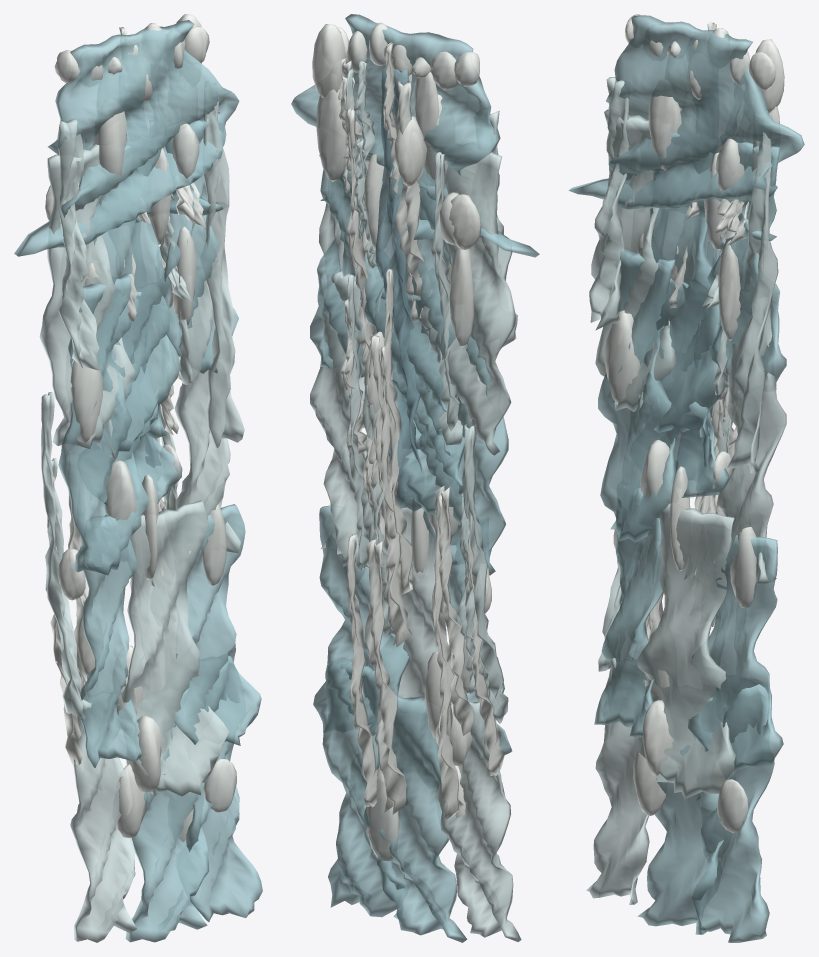
File: waterfall.glb
3 renders of one model, left to right at view 1: azimuth 30°, elevation 25°; view 2: azimuth 150°, elevation 25°; view 3: azimuth 330°, elevation 25°, orthographic. The views are drawn at different scales.
Parts seen in each view (by area): view 1: waterfall__water, waterfall__water_silver, waterfall__water_foam; view 2: waterfall__water, waterfall__water_foam, waterfall__water_silver, waterfall__water_shadow; view 3: waterfall__water, waterfall__water_silver, waterfall__water_foam, waterfall__water_shadow.
Part boxes in pixels (x1,y1,x2,y2): waterfall__water: (14,20,262,942); waterfall__water_silver: (39,98,244,942); waterfall__water_foam: (45,14,236,842); waterfall__water: (291,14,539,942); waterfall__water_foam: (312,22,504,861); waterfall__water_silver: (310,61,521,941); waterfall__water_shadow: (375,67,422,511); waterfall__water: (568,15,804,942); waterfall__water_silver: (586,77,786,904); waterfall__water_foam: (604,14,784,832); waterfall__water_shadow: (675,231,720,472).
Bounding box in the file's own units: 98.01 × 363 × 44.67.
